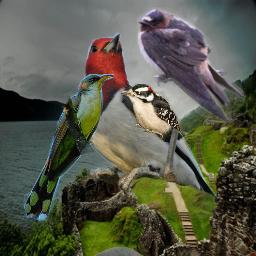Cuckoo: (24, 74, 114, 221)
Swallow: (135, 7, 246, 123)
Woodpecker: (73, 24, 226, 218), (119, 84, 183, 141)
